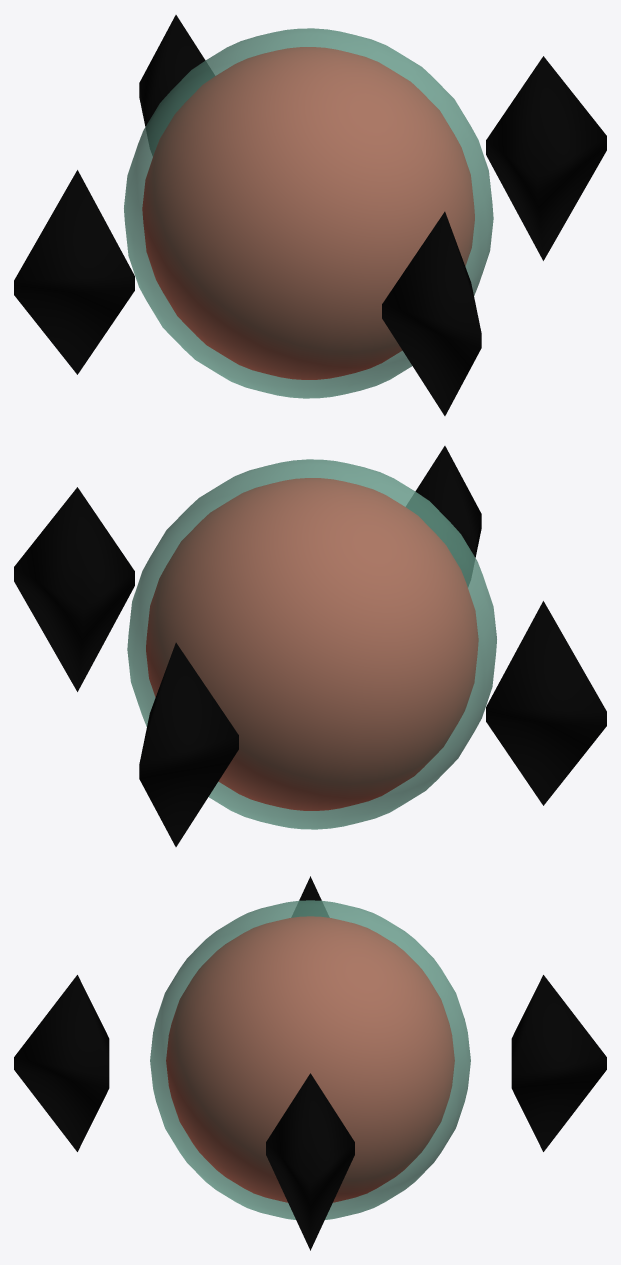
Rendered from ThrewableObj .fbx.
The picture shows the model from 3 angles, top to bottom: view 1: azimuth 30°, elevation 25°; view 2: azimuth 150°, elevation 25°; view 3: azimuth 270°, elevation 25°; orthographic projection. The views are drawn at different scales.
Visible parts, largest first — view 1: Cone; view 2: Cone; view 3: Cone.
Boxes of the visible parts, bbox=[...] form: Cone: bbox=[14, 15, 606, 415]; Cone: bbox=[14, 446, 606, 846]; Cone: bbox=[14, 876, 606, 1250].
Bounding box in the file's own units: 280 × 152 × 280.
